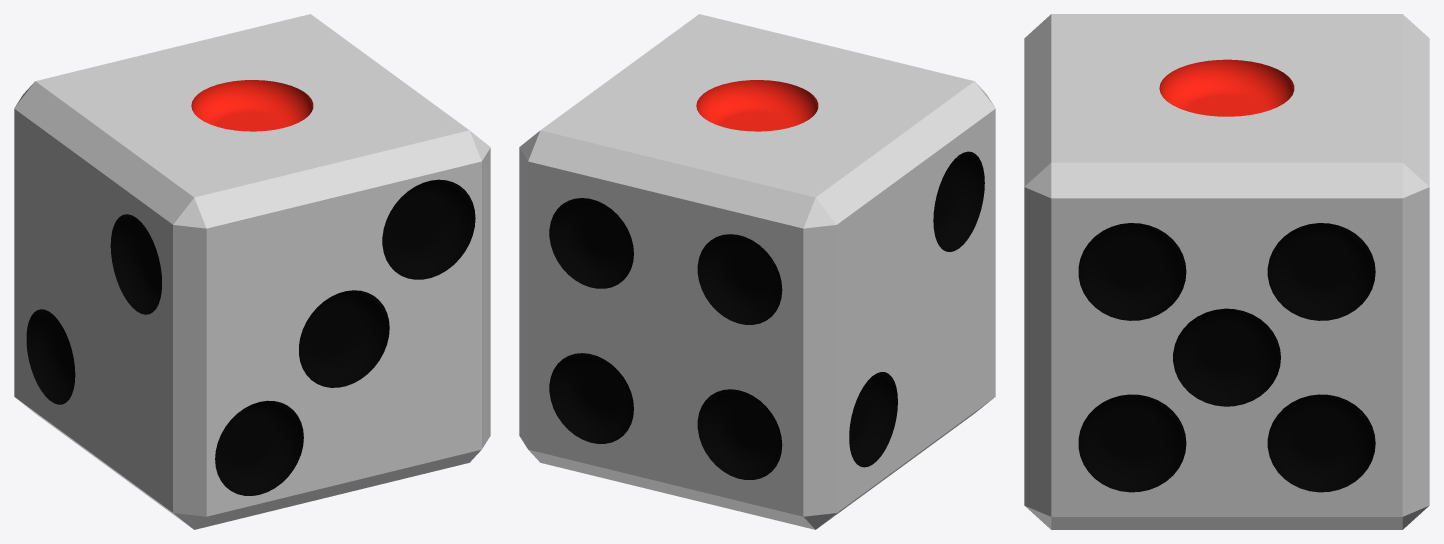
3 views of the same model, side by side, from view 1: azimuth 30°, elevation 25°; view 2: azimuth 150°, elevation 25°; view 3: azimuth 270°, elevation 25° (orthographic). The views are drawn at different scales.
Parts seen in each view (by area): view 1: Part1; view 2: Part1; view 3: Part1.
Boxes of the visible parts, x1,y1,x2,y2 form: Part1: [14, 14, 490, 529]; Part1: [519, 14, 995, 529]; Part1: [1024, 14, 1429, 529].
Bounding box in the file's own units: 0.03 × 0.03 × 0.03.
